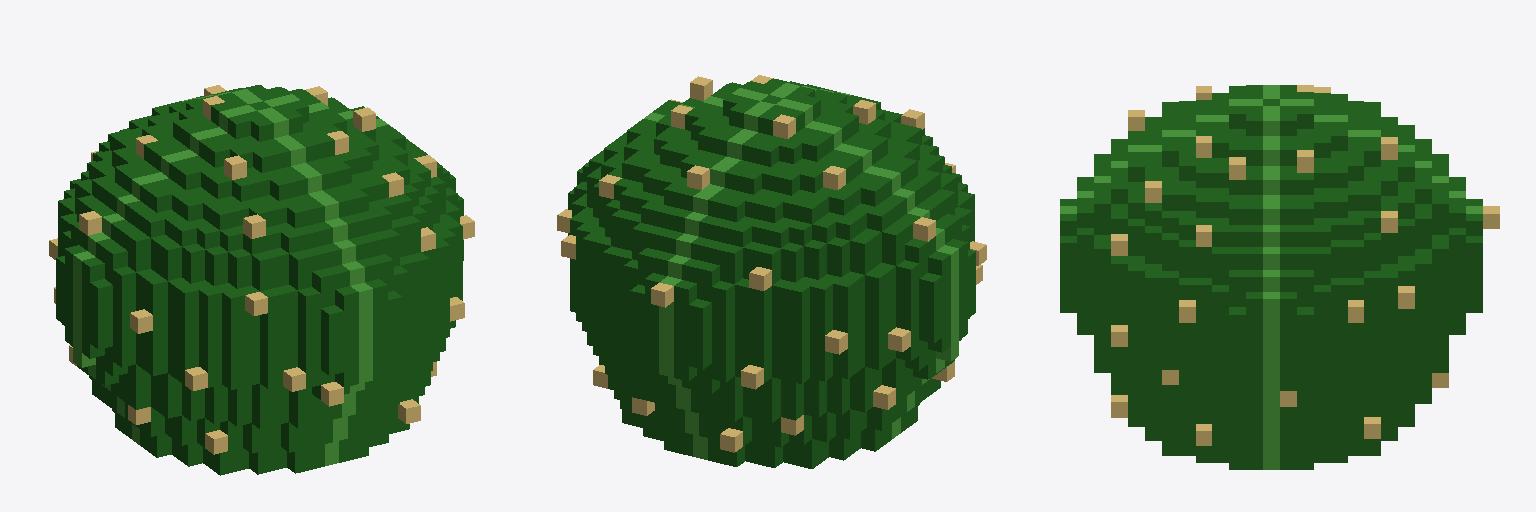
3 views of the same model, side by side, from view 1: azimuth 30°, elevation 25°; view 2: azimuth 150°, elevation 25°; view 3: azimuth 270°, elevation 25° (orthographic).
Visible parts, largest first — view 1: object 1; view 2: object 1; view 3: object 1.
Part boxes in pixels (left/top/right/bottom): object 1: left=49, top=85, right=474, bottom=475; object 1: left=557, top=75, right=986, bottom=468; object 1: left=1060, top=85, right=1499, bottom=469.
Bounding box in the file's own units: 2.5 × 2 × 2.6.
Materials: 1 (1 with a texture image).